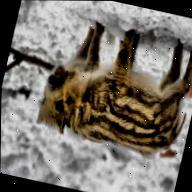boar: (31, 13, 192, 167)
